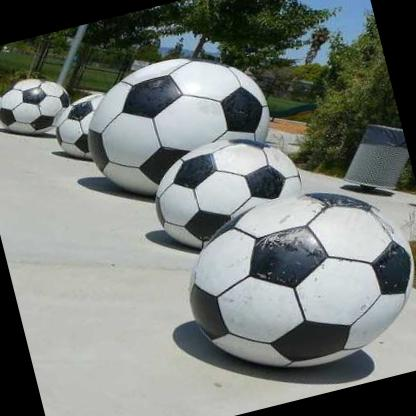ball: (168, 169, 416, 393), (76, 38, 284, 210), (144, 125, 312, 258), (47, 89, 124, 166), (0, 69, 76, 144)
